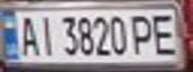0: (109, 12, 130, 56)
2: (90, 12, 112, 57)
3: (57, 11, 78, 56)
8: (75, 12, 93, 57)
A: (15, 12, 42, 57)
E: (148, 11, 184, 56)
I: (33, 12, 57, 57)
P: (127, 11, 157, 56)
